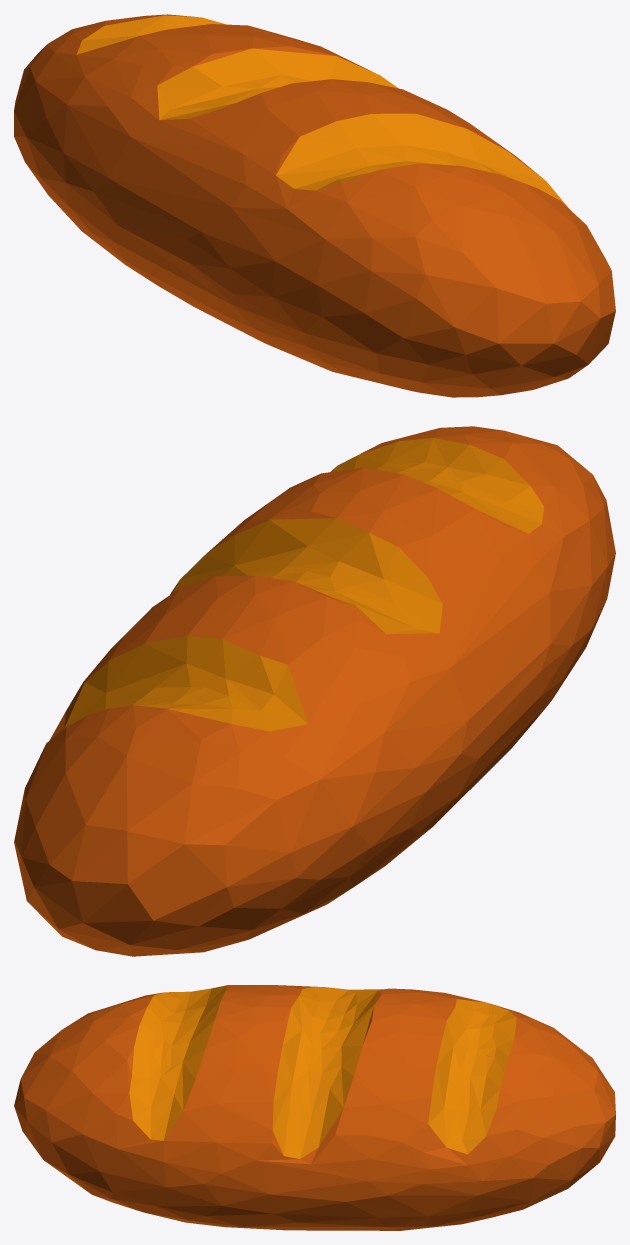
File: longloaf.obj
3 views of the same model, one above another, from view 1: azimuth 30°, elevation 25°; view 2: azimuth 150°, elevation 25°; view 3: azimuth 270°, elevation 25° (orthographic). The views are drawn at different scales.
Parts seen in each view (by area): view 1: Icosphere; view 2: Icosphere; view 3: Icosphere.
Boxes of the visible parts, x1=… form: Icosphere: x1=14, y1=14, x2=615, y2=397; Icosphere: x1=14, y1=426, x2=615, y2=956; Icosphere: x1=14, y1=985, x2=615, y2=1230.
Size of the model in its own units: 0.6824 by 0.5298 by 1.45.
